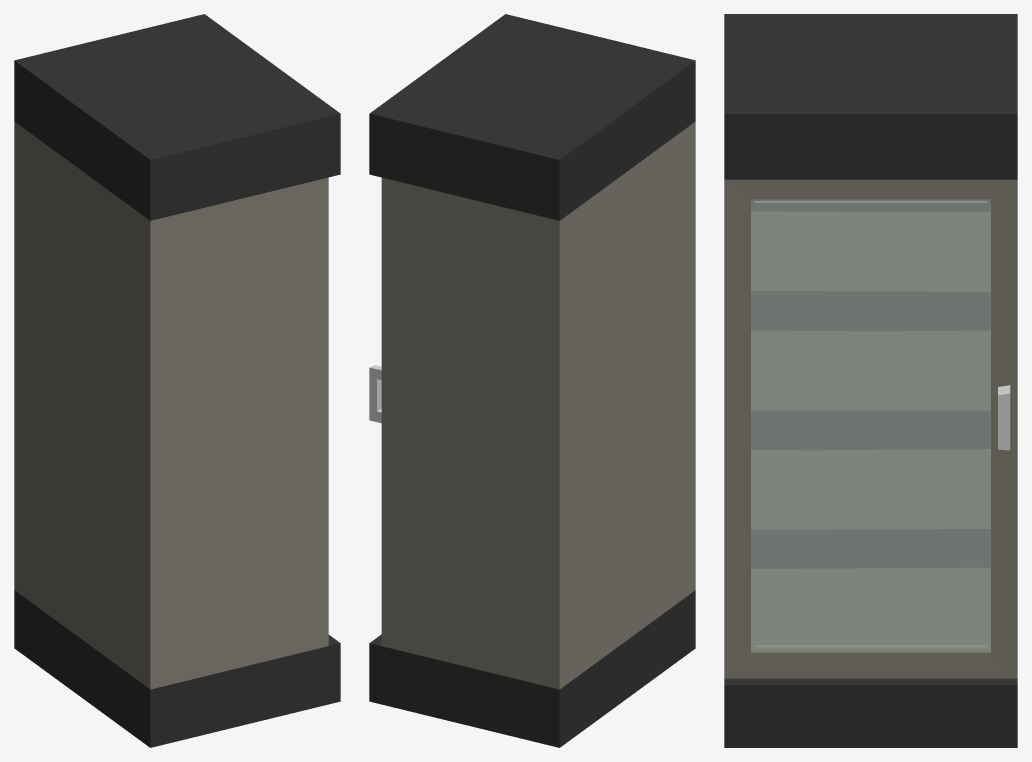
The model's file is S.Fridge.fbx.
3 renders of one model, left to right at view 1: azimuth 30°, elevation 25°; view 2: azimuth 150°, elevation 25°; view 3: azimuth 270°, elevation 25°, orthographic. The views are drawn at different scales.
Parts seen in each view (by area): view 1: Fridge; view 2: Fridge; view 3: Fridge.
Boxes of the visible parts, x1,y1,x2,y2 form: Fridge: (14, 14, 340, 747); Fridge: (369, 14, 695, 747); Fridge: (724, 14, 1017, 747).
Size of the model in its own units: 218 by 631 by 265.
